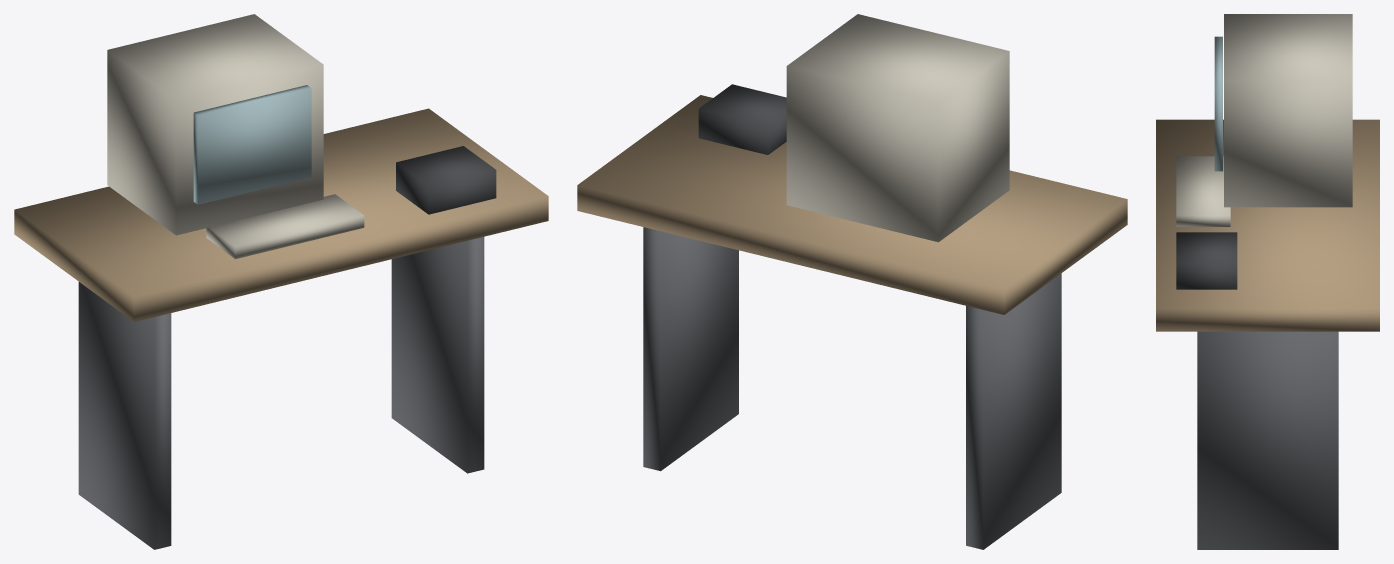
Rendered from crt_workstation__compact.glb.
3 views of the same model, side by side, from view 1: azimuth 30°, elevation 25°; view 2: azimuth 150°, elevation 25°; view 3: azimuth 270°, elevation 25° (orthographic). The views are drawn at different scales.
Parts seen in each view (by area): view 1: world; view 2: world; view 3: world.
Part boxes in pixels (left/top/right/bottom): world: left=14, top=14, right=548, bottom=549; world: left=577, top=14, right=1127, bottom=549; world: left=1156, top=14, right=1379, bottom=549.
Bounding box in the file's own units: 1.13 × 1.13 × 0.5676.
